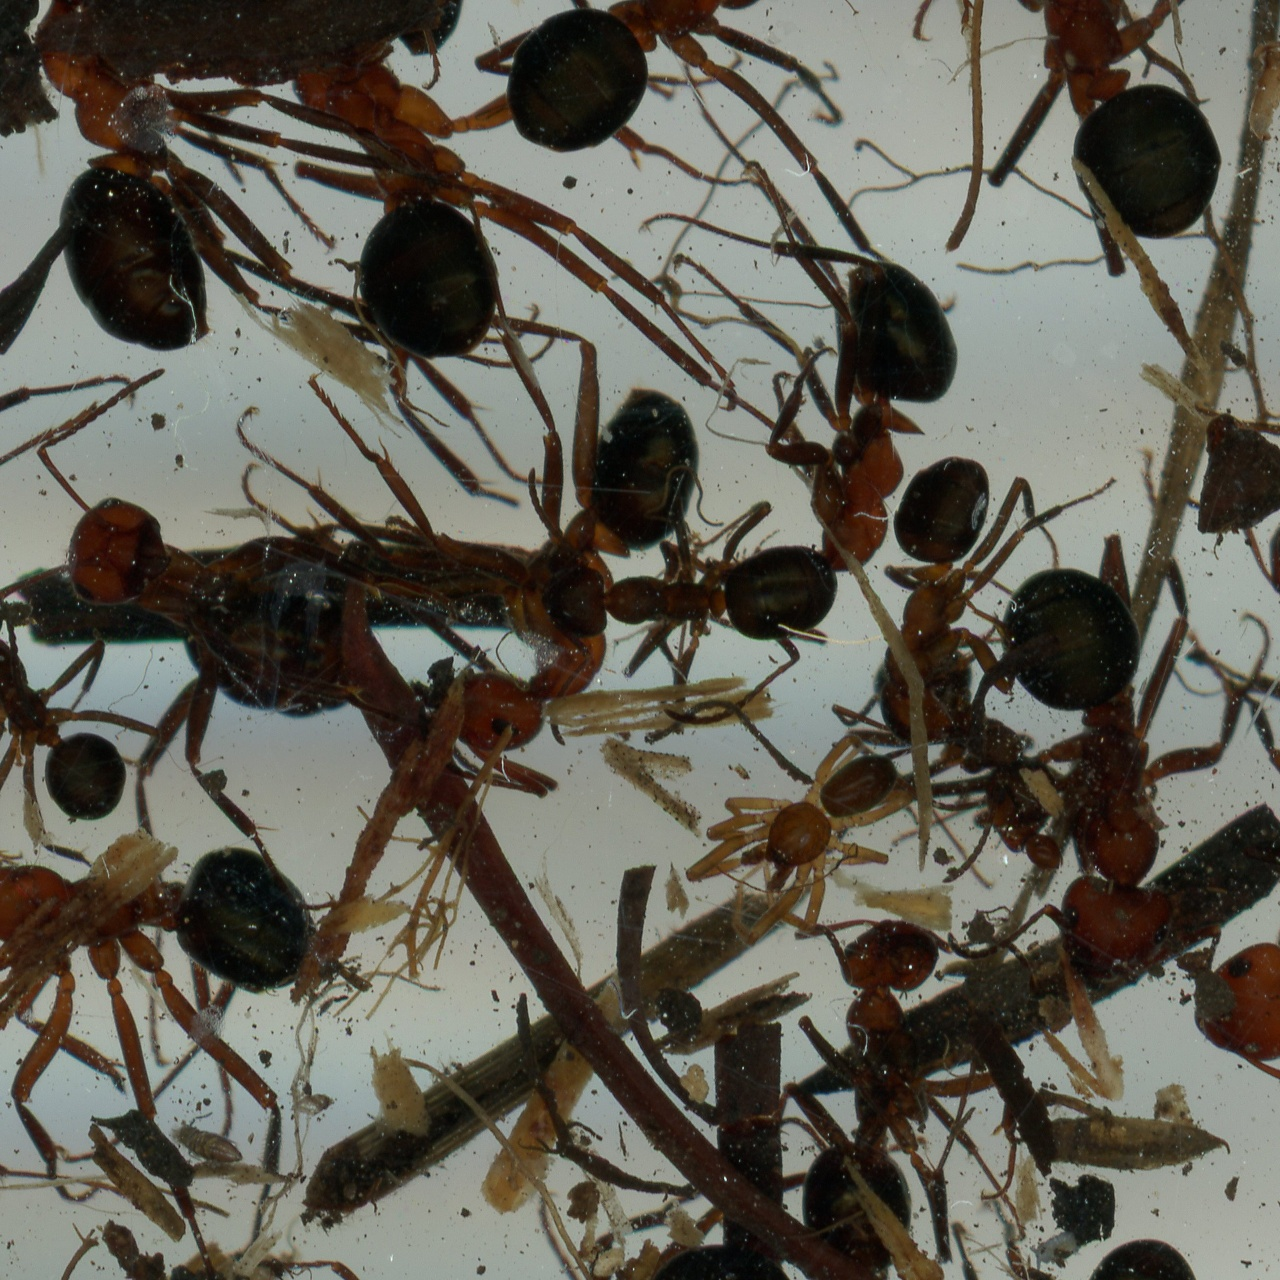arthropod: (0, 266, 475, 859), (381, 290, 735, 836), (934, 465, 1276, 990), (204, 0, 572, 476), (647, 202, 966, 730), (886, 0, 1280, 406), (0, 819, 341, 1226), (815, 422, 1126, 754), (660, 687, 980, 1001), (477, 0, 982, 196), (260, 1138, 822, 1280), (0, 0, 223, 352), (525, 490, 842, 735), (758, 919, 971, 1262), (0, 551, 191, 845), (1159, 658, 1280, 1107), (0, 226, 67, 770), (1207, 0, 1280, 294), (204, 0, 504, 52), (172, 1104, 252, 1178), (1028, 1219, 1085, 1271)
